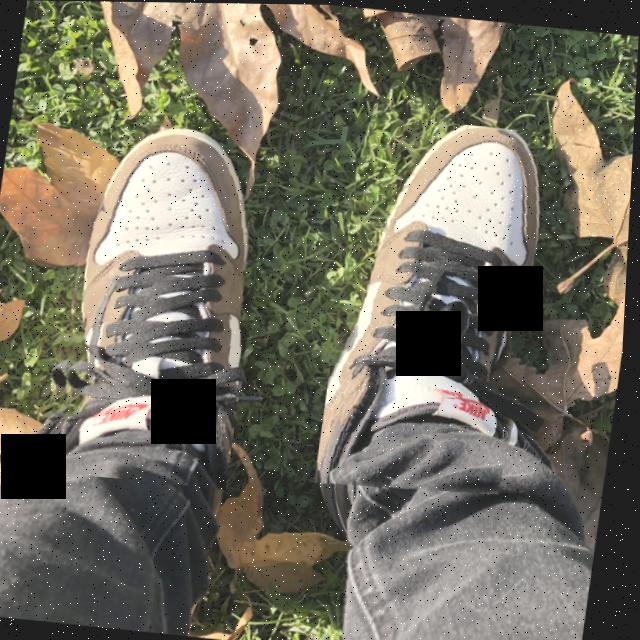shoe: (318, 112, 577, 503), (42, 115, 277, 489)
